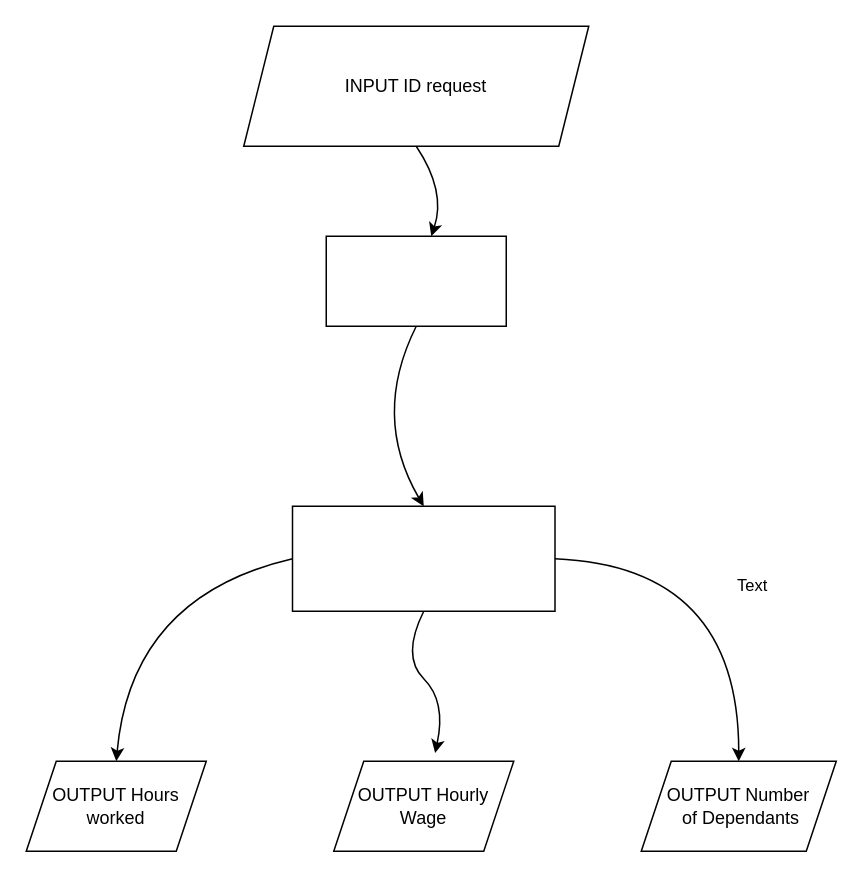
This 863x878 diagram has some shape labels left out. Here are the shapes that lost their labels. From the top down, the centre of each, then its label:
(415,280): Carl's Data Base
(423,558): INPUT Information using ID number
